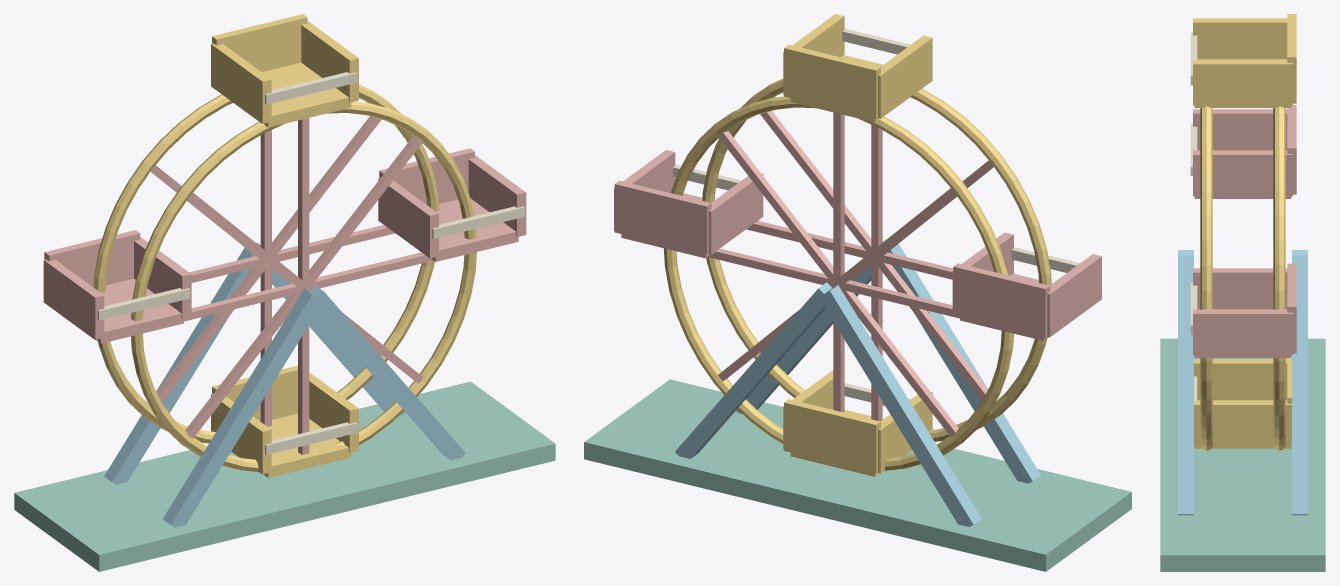
File: ferris.glb
3 views of the same model, side by side, from view 1: azimuth 30°, elevation 25°; view 2: azimuth 150°, elevation 25°; view 3: azimuth 270°, elevation 25° (orthographic). The views are drawn at different scales.
Visible parts, largest first — view 1: wheel foundation, wheel spoke, Ferris rim.001, A frame support.001, cushioned floor.003, cushioned floor.004, cushioned floor.002, cushioned floor.001, front safety bar.004, front safety bar.002, front safety bar.003, front safety bar.001; view 2: wheel foundation, wheel spoke, Ferris rim.001, A frame support.001, cushioned floor.003, cushioned floor.002, cushioned floor.004, cushioned floor.001, front safety bar.003, front safety bar.004; view 3: wheel foundation, cushioned floor.003, cushioned floor.002, A frame support.001, Ferris rim.001, cushioned floor.004, cushioned floor.001, front safety bar.003, front safety bar.002, front safety bar.004.
Boxes of the visible parts, <box> form: wheel foundation: <box>14,381,555,571</box>; wheel spoke: <box>148,116,432,454</box>; Ferris rim.001: <box>93,84,476,472</box>; A frame support.001: <box>104,242,465,527</box>; cushioned floor.003: <box>211,14,358,127</box>; cushioned floor.004: <box>43,230,191,343</box>; cushioned floor.002: <box>378,148,526,261</box>; cushioned floor.001: <box>211,365,358,477</box>; front safety bar.004: <box>97,288,190,320</box>; front safety bar.002: <box>432,206,524,238</box>; front safety bar.003: <box>265,72,357,104</box>; front safety bar.001: <box>265,422,357,454</box>; wheel foundation: <box>584,379,1131,571</box>; wheel spoke: <box>708,111,996,436</box>; Ferris rim.001: <box>663,78,1051,471</box>; A frame support.001: <box>675,239,1040,526</box>; cushioned floor.003: <box>783,14,932,122</box>; cushioned floor.002: <box>614,150,763,258</box>; cushioned floor.004: <box>952,232,1101,340</box>; cushioned floor.001: <box>783,370,932,476</box>; front safety bar.003: <box>842,28,910,54</box>; front safety bar.004: <box>1011,247,1079,272</box>; wheel foundation: <box>1160,338,1325,571</box>; cushioned floor.003: <box>1193,14,1296,107</box>; cushioned floor.002: <box>1193,263,1296,357</box>; A frame support.001: <box>1178,250,1307,515</box>; Ferris rim.001: <box>1200,106,1285,450</box>; cushioned floor.004: <box>1193,105,1296,198</box>; cushioned floor.001: <box>1194,355,1291,448</box>; front safety bar.003: <box>1190,32,1197,85</box>; front safety bar.002: <box>1190,282,1197,334</box>; front safety bar.004: <box>1190,123,1197,175</box>.
Size of the model in its own units: 4.5 by 4.15 by 1.45.
